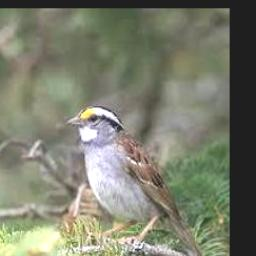Sparrow: (66, 105, 205, 256)
